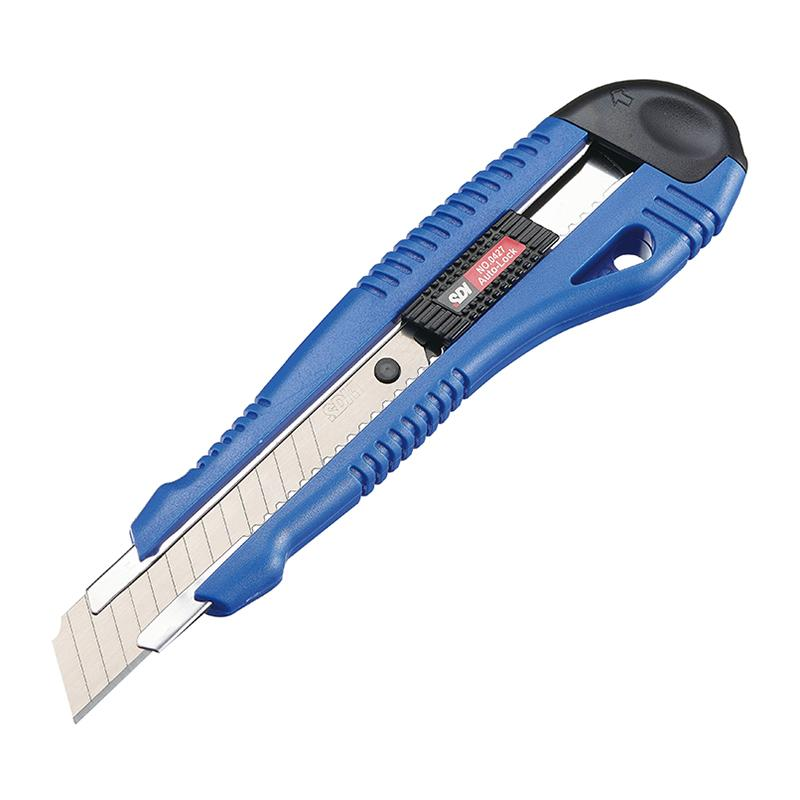cutter: (48, 73, 754, 730)
